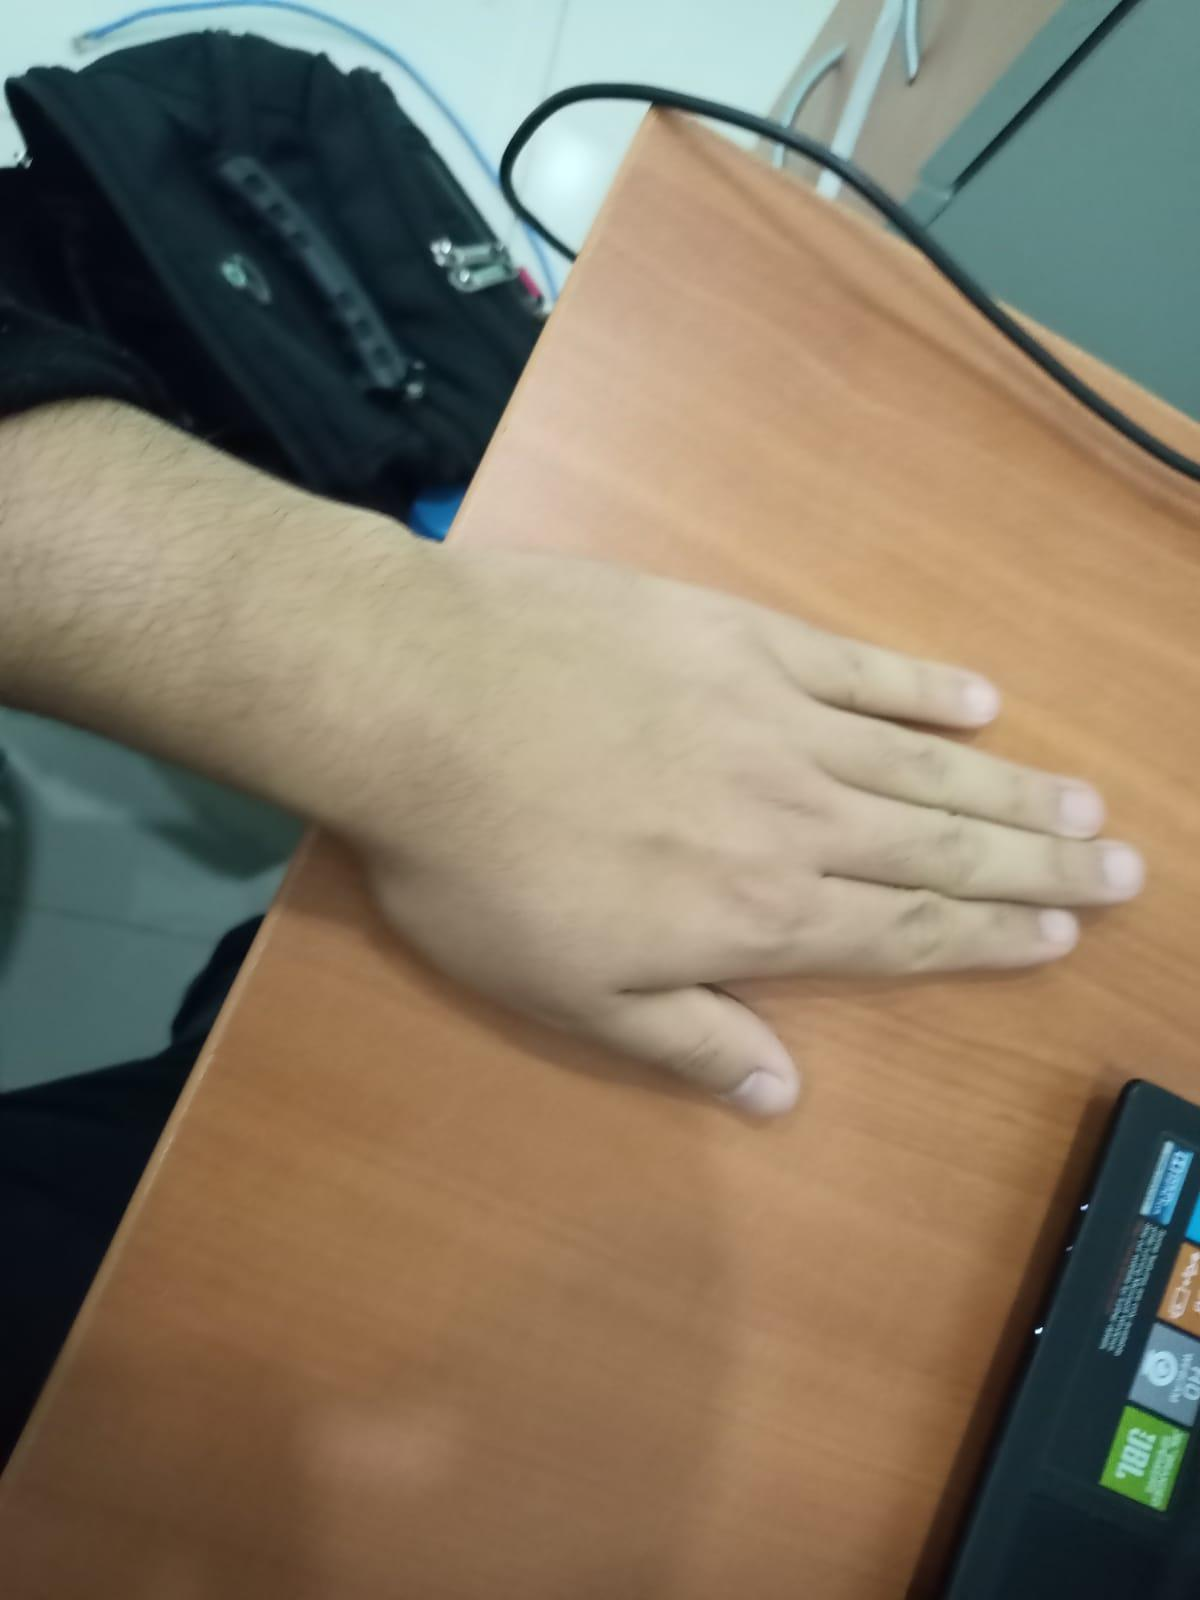Paper: (352, 488, 1176, 1131)
